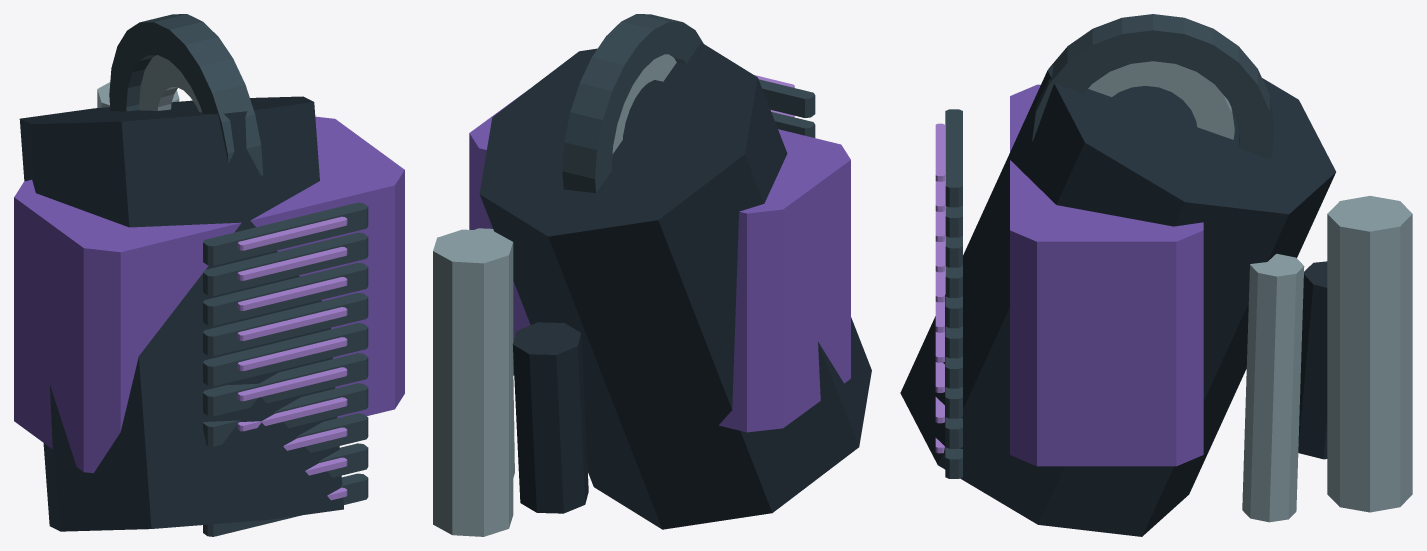
Rendered from enemy_tank_4k_thigh_l.obj.
3 renders of one model, left to right at view 1: azimuth 30°, elevation 25°; view 2: azimuth 150°, elevation 25°; view 3: azimuth 270°, elevation 25°, orthographic. The views are drawn at different scales.
Bounding box in the file's own units: 0.5035 × 0.7033 × 0.6615.
